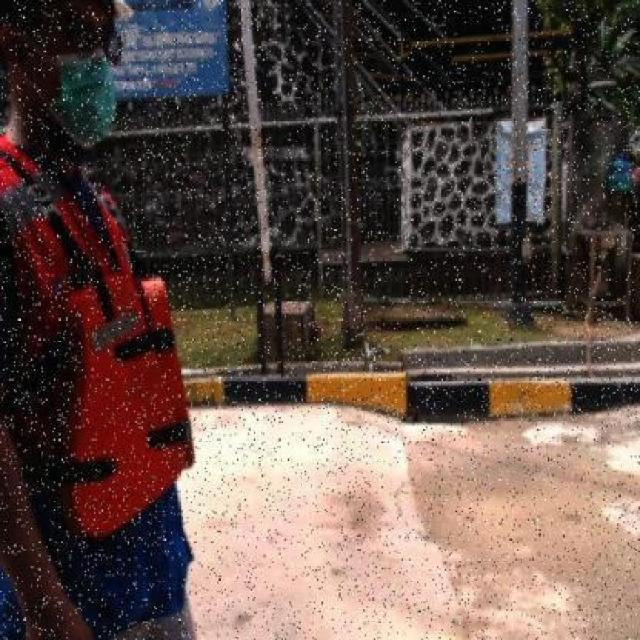Mask: (48, 50, 124, 155)
Vest: (44, 264, 201, 544)
